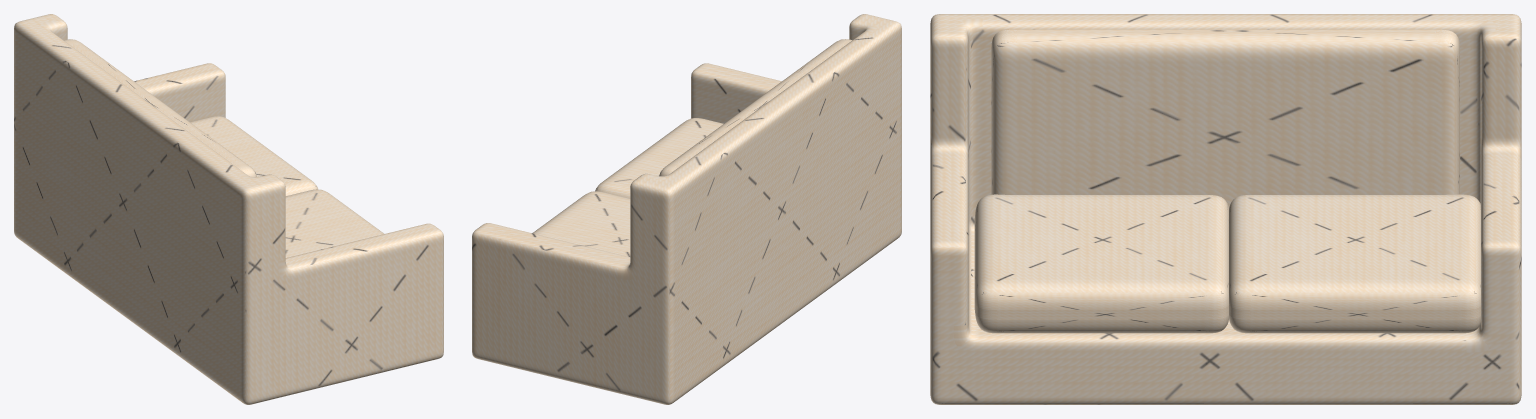
Rendered from couch.fbx.
3 renders of one model, left to right at view 1: azimuth 30°, elevation 25°; view 2: azimuth 150°, elevation 25°; view 3: azimuth 270°, elevation 25°, orthographic. The views are drawn at different scales.
Parts seen in each view (by area): view 1: Cube.035, Cube.036, Cube.040, Cube.037; view 2: Cube.035, Cube.040, Cube.036, Cube.037; view 3: Cube.035, Cube.037, Cube.036, Cube.040.
Part boxes in pixels (left/top/right/bottom): Cube.035: left=14, top=14, right=443, bottom=404; Cube.036: left=285, top=189, right=384, bottom=257; Cube.040: left=190, top=116, right=318, bottom=195; Cube.037: left=64, top=39, right=256, bottom=176; Cube.035: left=472, top=14, right=901, bottom=404; Cube.040: left=532, top=191, right=630, bottom=256; Cube.036: left=595, top=118, right=723, bottom=198; Cube.037: left=659, top=39, right=852, bottom=176; Cube.035: left=930, top=14, right=1521, bottom=404; Cube.037: left=991, top=29, right=1459, bottom=207; Cube.036: left=974, top=194, right=1228, bottom=333; Cube.040: left=1229, top=194, right=1480, bottom=333.
Bounding box in the file's own units: 205 × 102 × 104.
